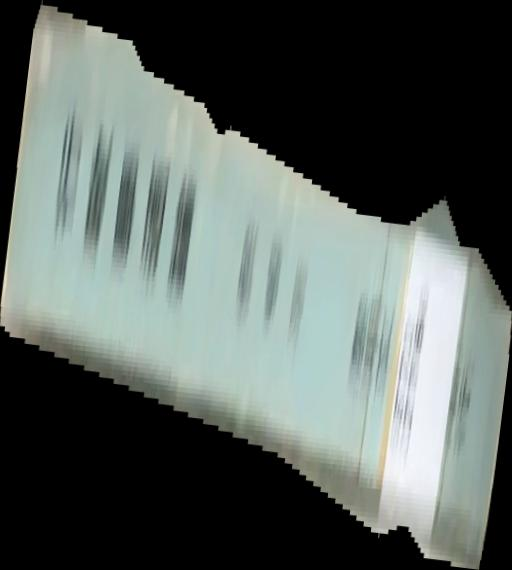flat: (1, 1, 512, 570)
